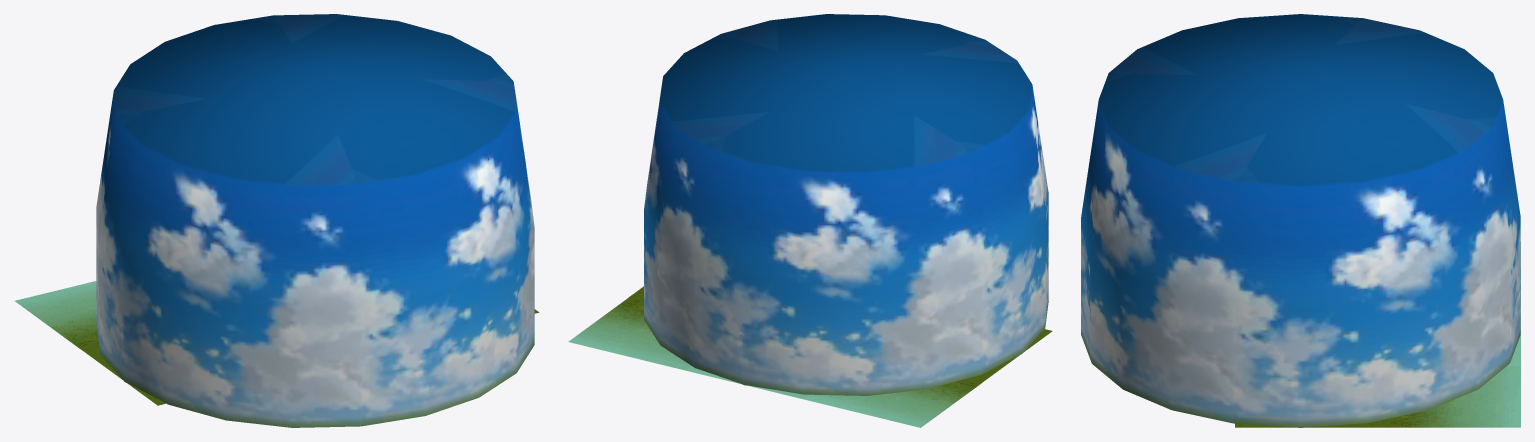
The model's file is TenkaichiBudokai.glb.
The picture shows the model from 3 angles, left to right: view 1: azimuth 30°, elevation 25°; view 2: azimuth 150°, elevation 25°; view 3: azimuth 270°, elevation 25°; orthographic projection. The views are drawn at different scales.
Visible parts, largest first — view 1: Budokai_Tenkaichi; view 2: Budokai_Tenkaichi; view 3: Budokai_Tenkaichi.
Boxes of the visible parts, <box> form: Budokai_Tenkaichi: <box>15,14,539,427</box>; Budokai_Tenkaichi: <box>568,14,1052,427</box>; Budokai_Tenkaichi: <box>1081,14,1520,427</box>.
Size of the model in its own units: 180 by 118 by 180.
Materials: 11 (11 with a texture image).
